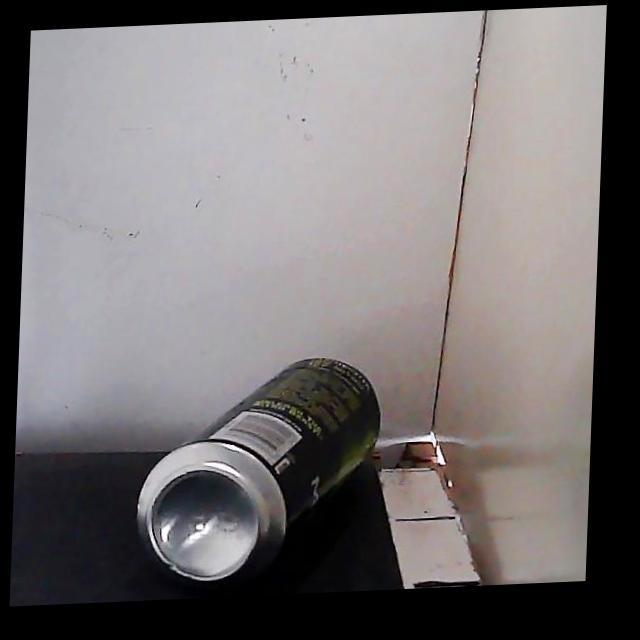metal: (138, 358, 379, 584)
